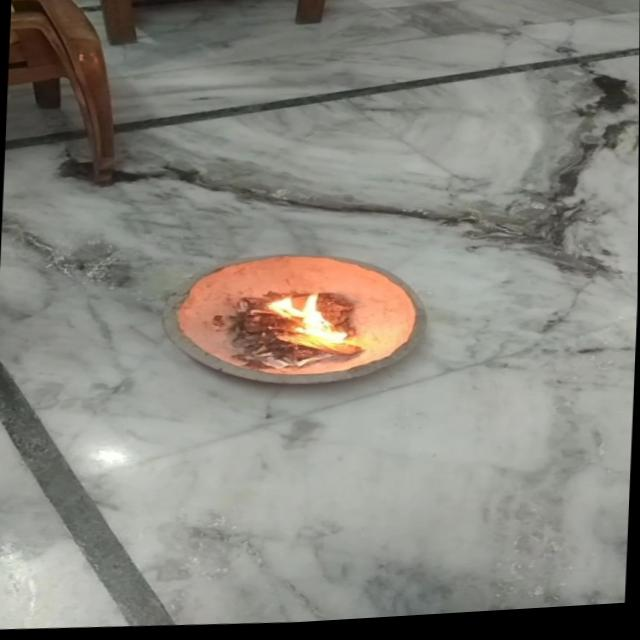fire: (253, 286, 358, 361)
